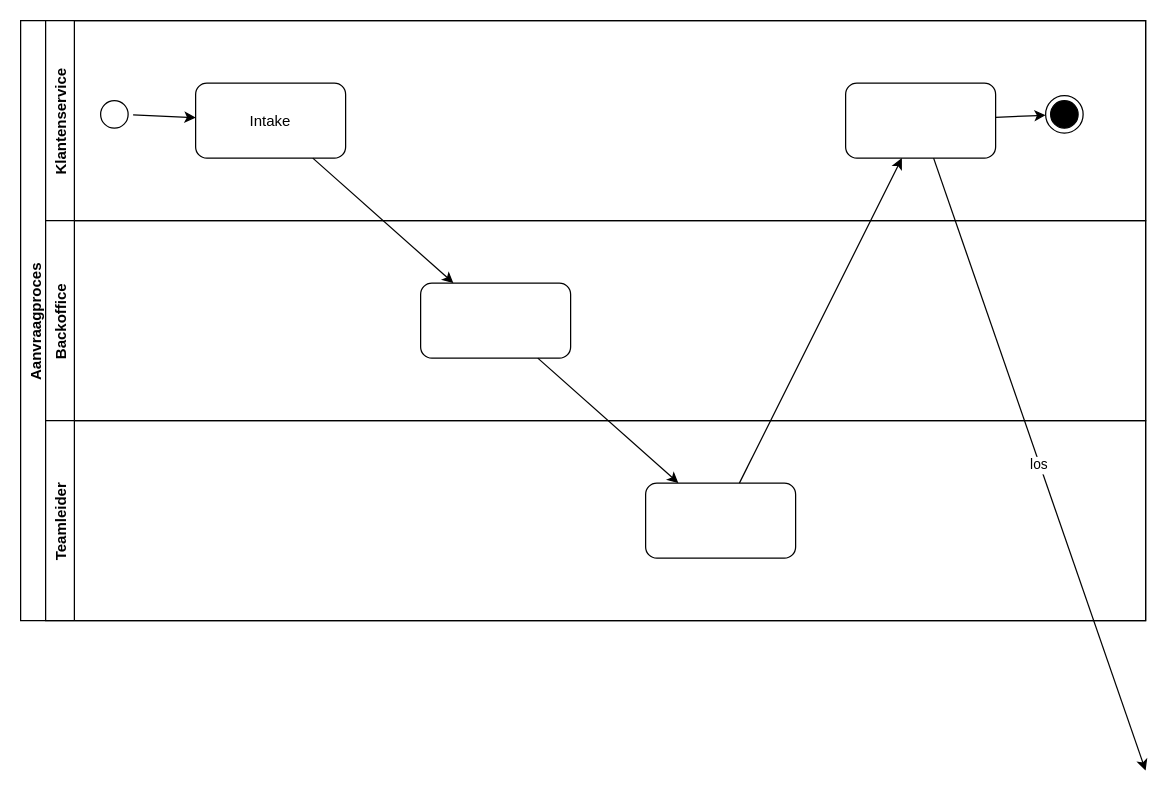
This 1168x790 diagram has some shape labels left out. The shapes that lost their labels are listed below. From the top down, each one's centre as x and y in pixels, then its label:
pixel 920 120: Versturen
pixel 495 320: Beoordelen
pixel 720 520: Goedkeuren
